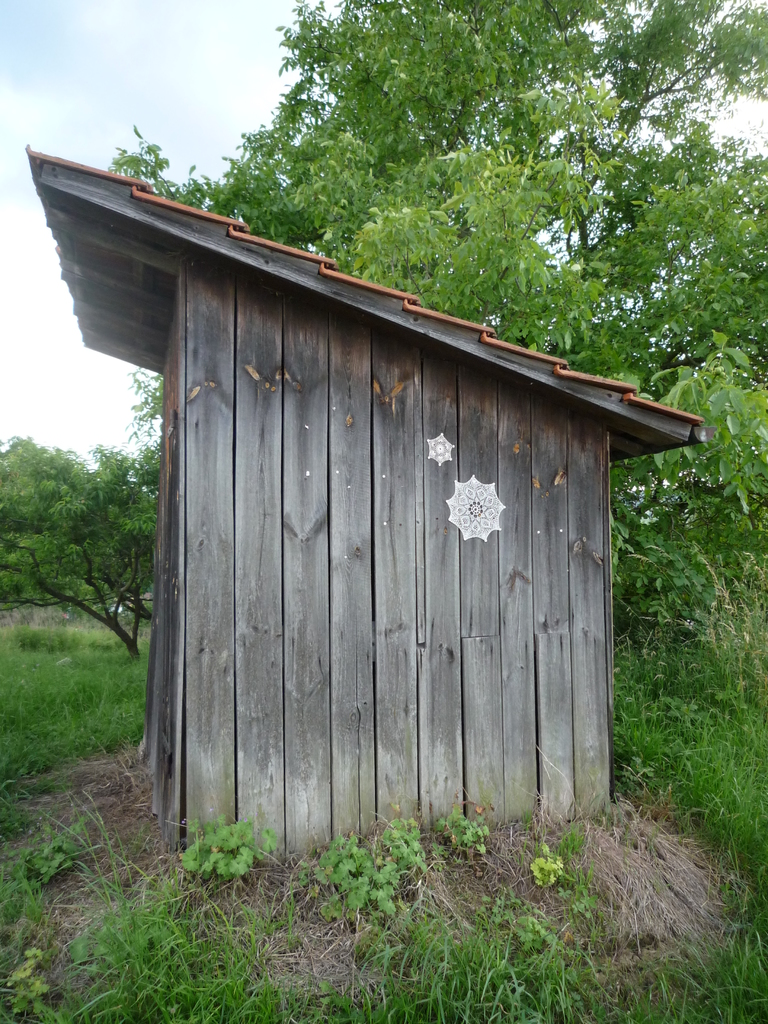Tree: (119, 0, 767, 853), (0, 431, 155, 662)
